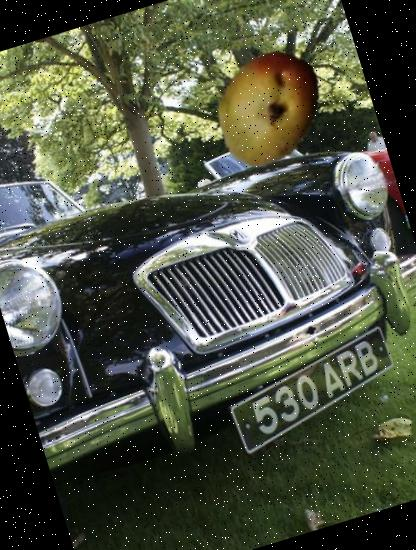Papaya: (195, 33, 345, 182)
